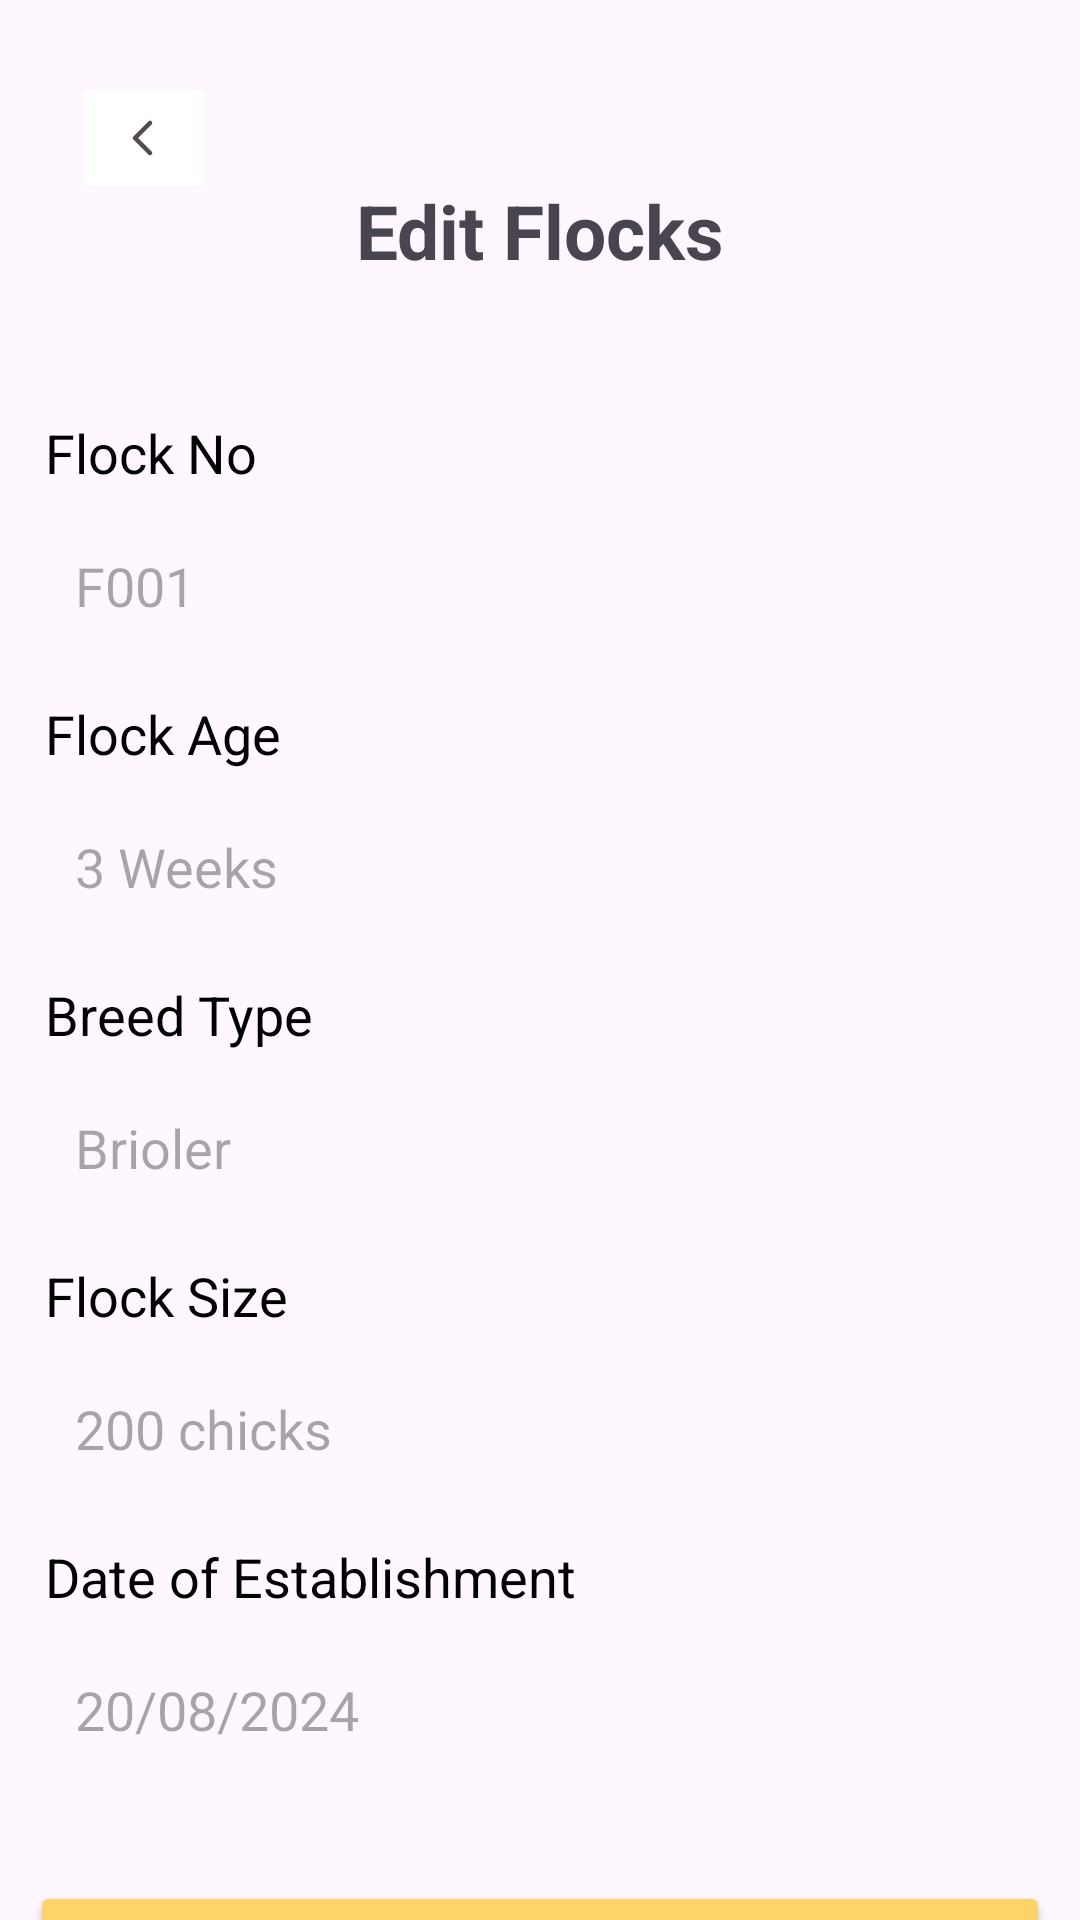

Icons on this 1080×1920 Android screen, each with its box as (x1=x1, y1=y1, x2=x2, y2=y2):
leftdirect: (x1=133, y1=120, x2=152, y2=156)
